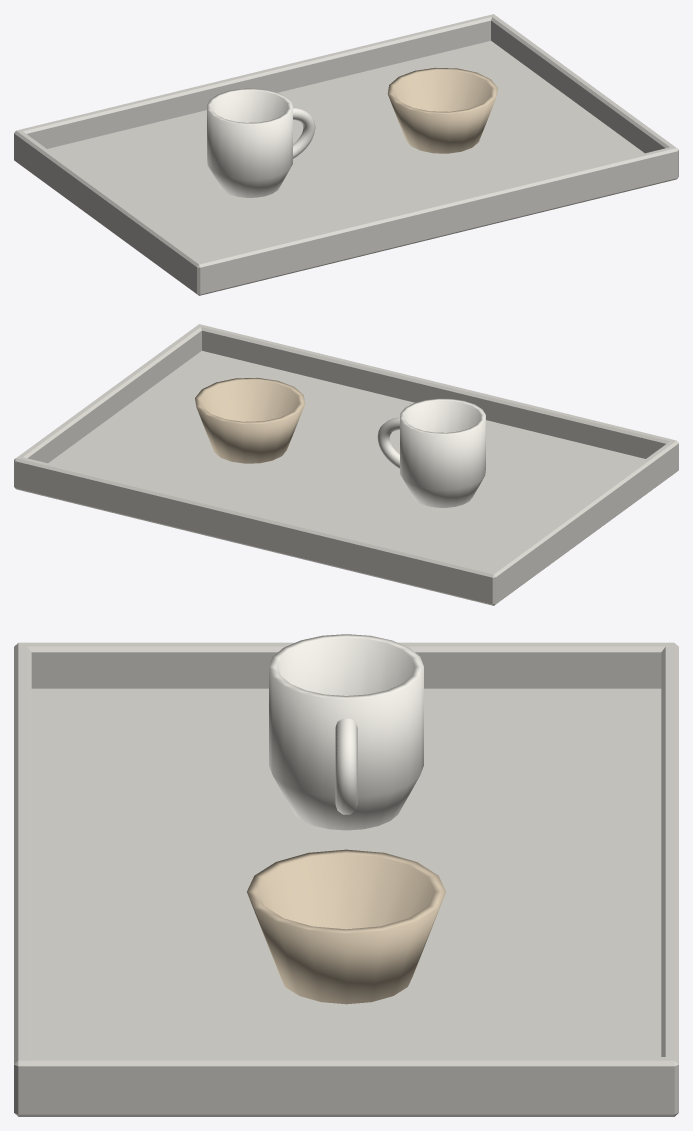
The model's file is i_tray_2.glb.
The picture shows the model from 3 angles, top to bottom: view 1: azimuth 30°, elevation 25°; view 2: azimuth 150°, elevation 25°; view 3: azimuth 270°, elevation 25°; orthographic projection. The views are drawn at different scales.
Parts seen in each view (by area): view 1: o, o.001, o.003, o.005, o.007, o.002, o.004, o.006; view 2: o, o.003, o.001, o.005, o.007, o.002, o.004, o.006; view 3: o, o.004, o.005, o.007, o.002, o.003, o.001, o.006.
Part boxes in pixels (bbox=[...]): o: bbox=[47, 41, 678, 295]; o.001: bbox=[195, 146, 678, 294]; o.003: bbox=[17, 14, 495, 148]; o.005: bbox=[207, 88, 292, 197]; o.007: bbox=[387, 67, 497, 153]; o.002: bbox=[14, 130, 204, 295]; o.004: bbox=[491, 15, 678, 179]; o.006: bbox=[293, 107, 315, 158]; o: bbox=[15, 351, 678, 605]; o.003: bbox=[16, 456, 498, 602]; o.001: bbox=[197, 324, 678, 469]; o.005: bbox=[400, 398, 485, 507]; o.007: bbox=[195, 377, 305, 463]; o.002: bbox=[488, 441, 678, 605]; o.004: bbox=[14, 326, 201, 489]; o.006: bbox=[377, 417, 399, 468]; o: bbox=[14, 688, 678, 1116]; o.004: bbox=[14, 1057, 678, 1116]; o.005: bbox=[269, 634, 423, 830]; o.007: bbox=[247, 849, 445, 1004]; o.002: bbox=[14, 642, 678, 688]; o.003: bbox=[661, 644, 678, 1116]; o.001: bbox=[14, 642, 31, 1116]; o.006: bbox=[335, 718, 357, 814].
Bounding box in the file's own units: 0.45 × 0.078 × 0.3.
